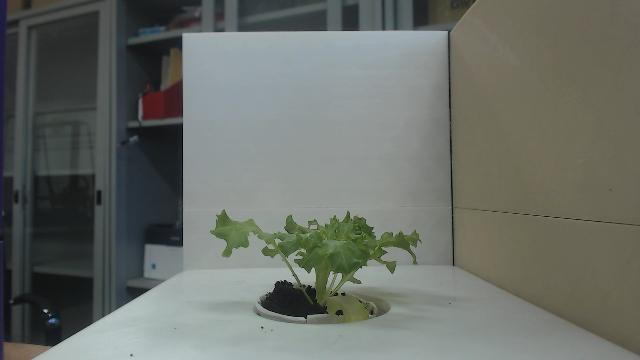Vegetative Stage: (210, 208, 422, 324)
